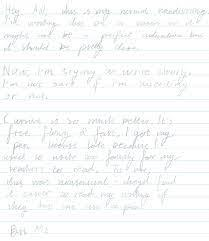text: (4, 1, 207, 22), (2, 185, 170, 208), (2, 64, 193, 83), (1, 76, 191, 95), (4, 124, 175, 145), (2, 28, 205, 45), (6, 172, 177, 192), (5, 149, 183, 168), (2, 17, 200, 33), (7, 198, 146, 219), (10, 138, 159, 155), (0, 41, 136, 58), (1, 113, 174, 126), (8, 160, 152, 175), (8, 222, 49, 239), (0, 91, 48, 102)
